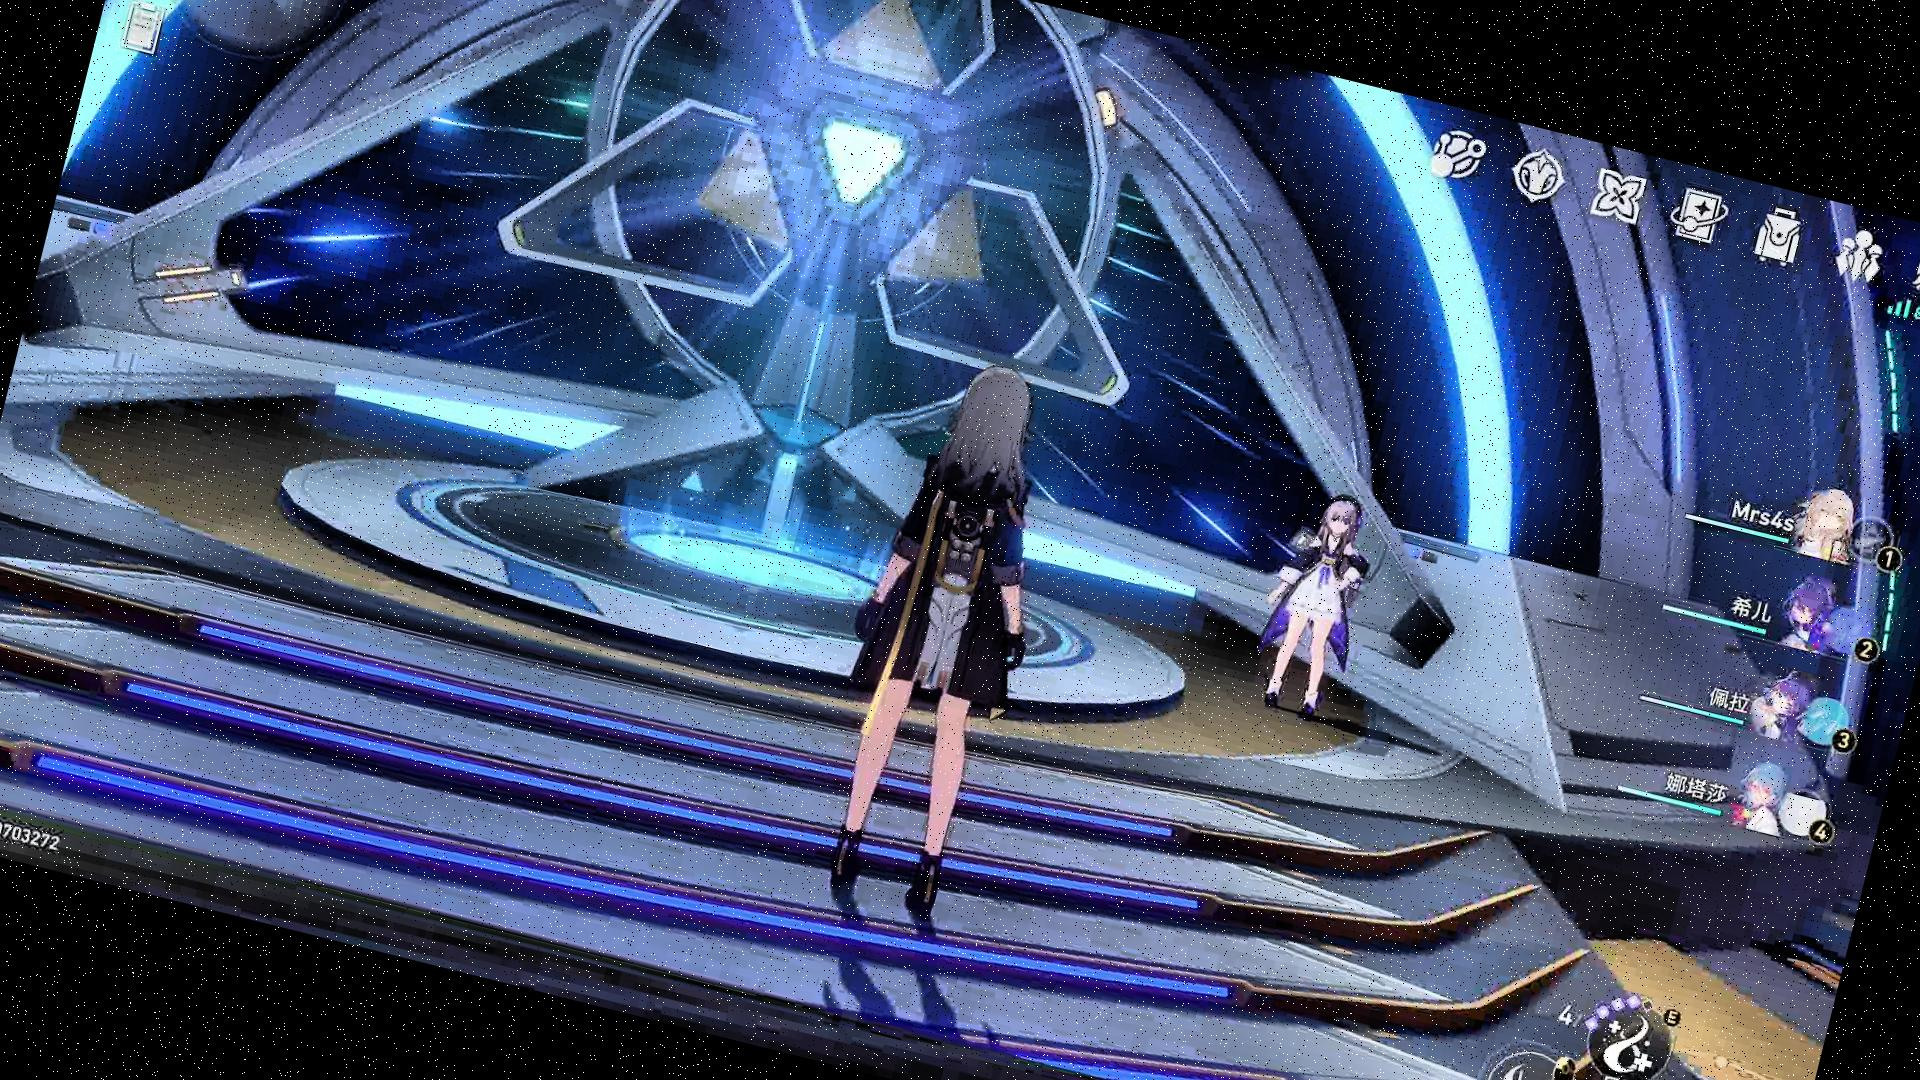Self: (789, 345, 1088, 935)
TeamMate: (1244, 484, 1389, 729)
